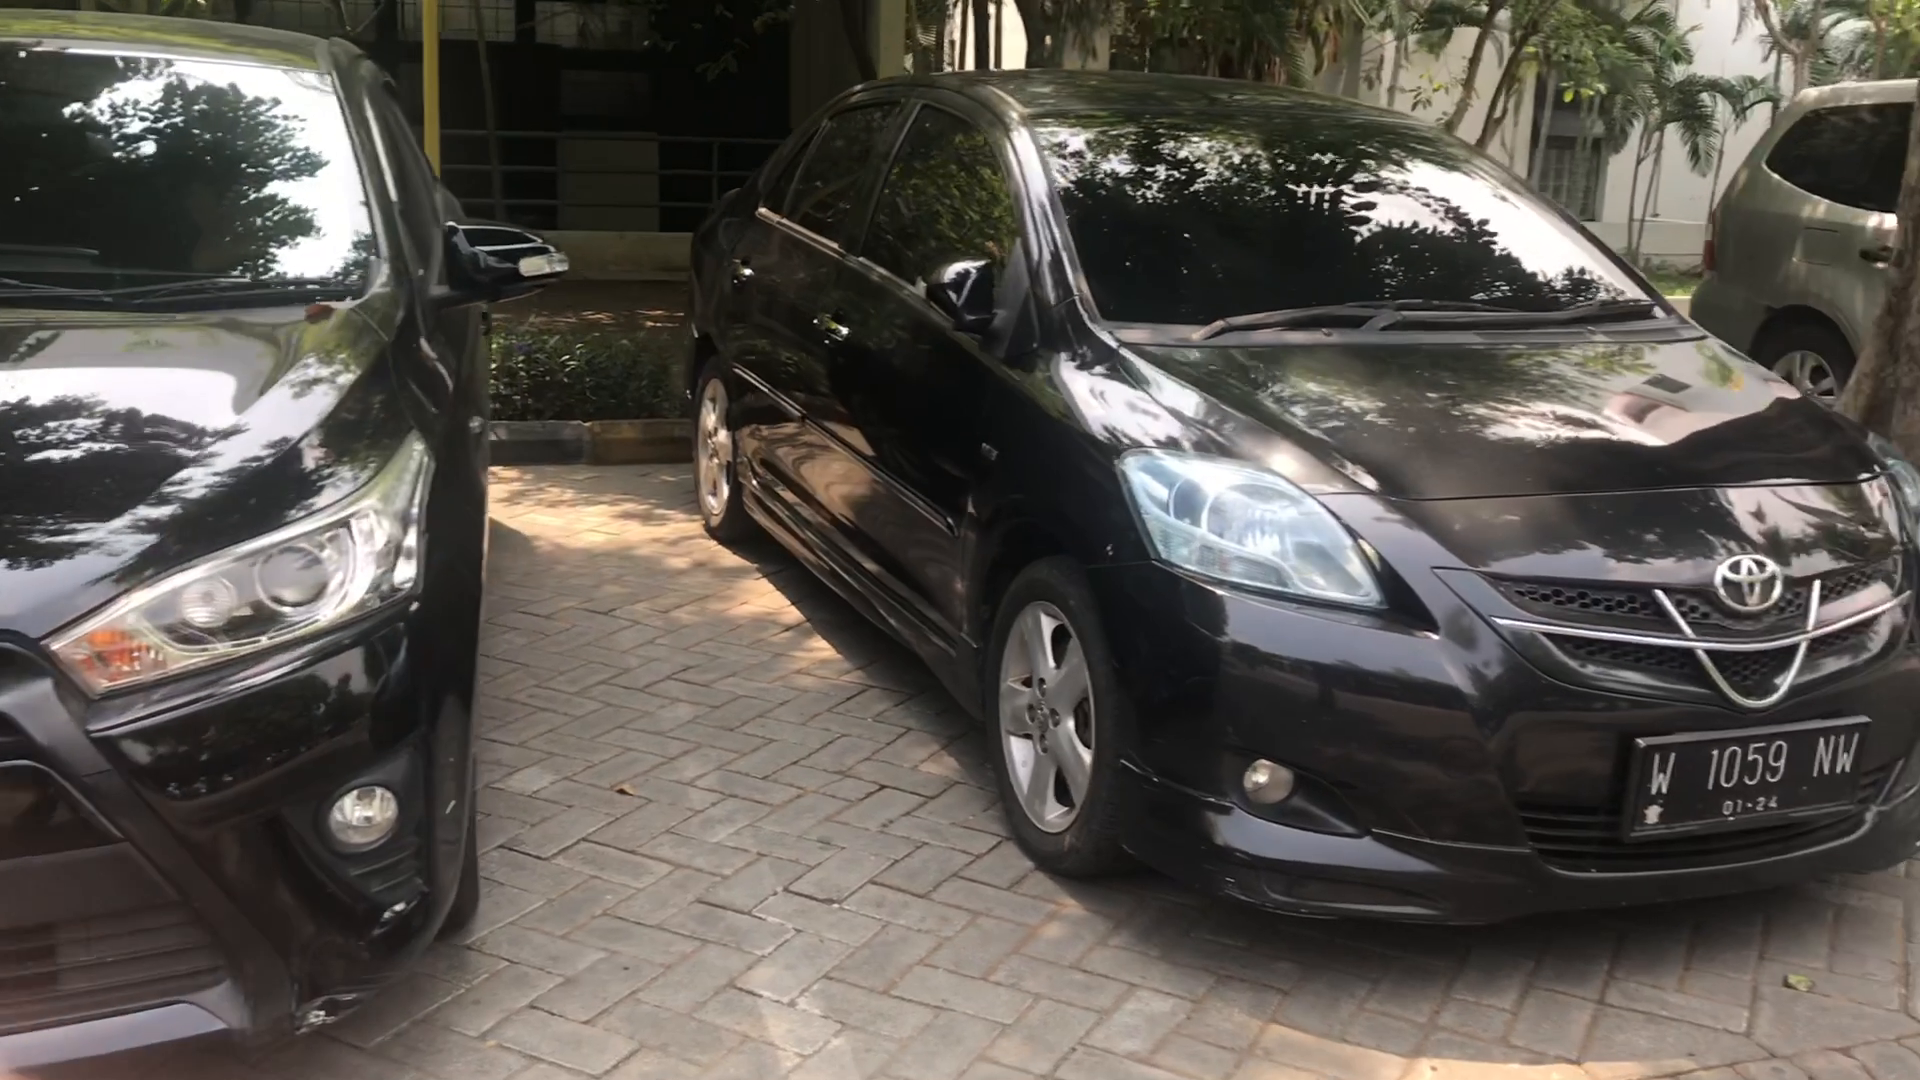plate: (1635, 712, 1867, 832)
